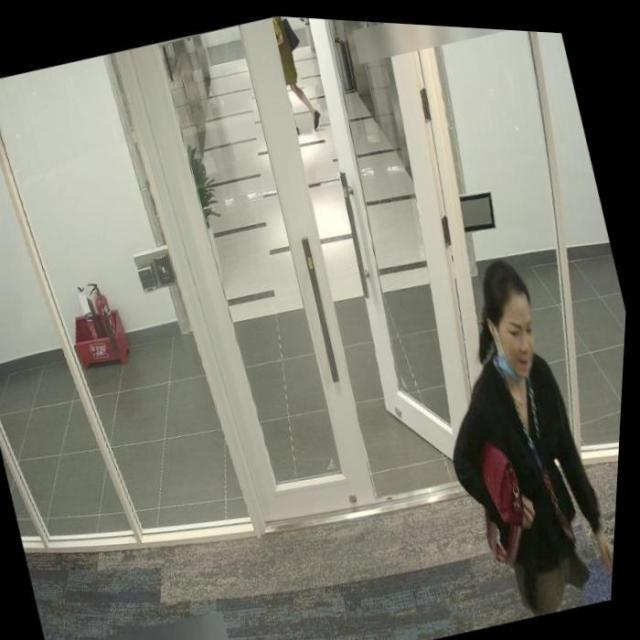hairnet: (486, 299, 550, 378)
